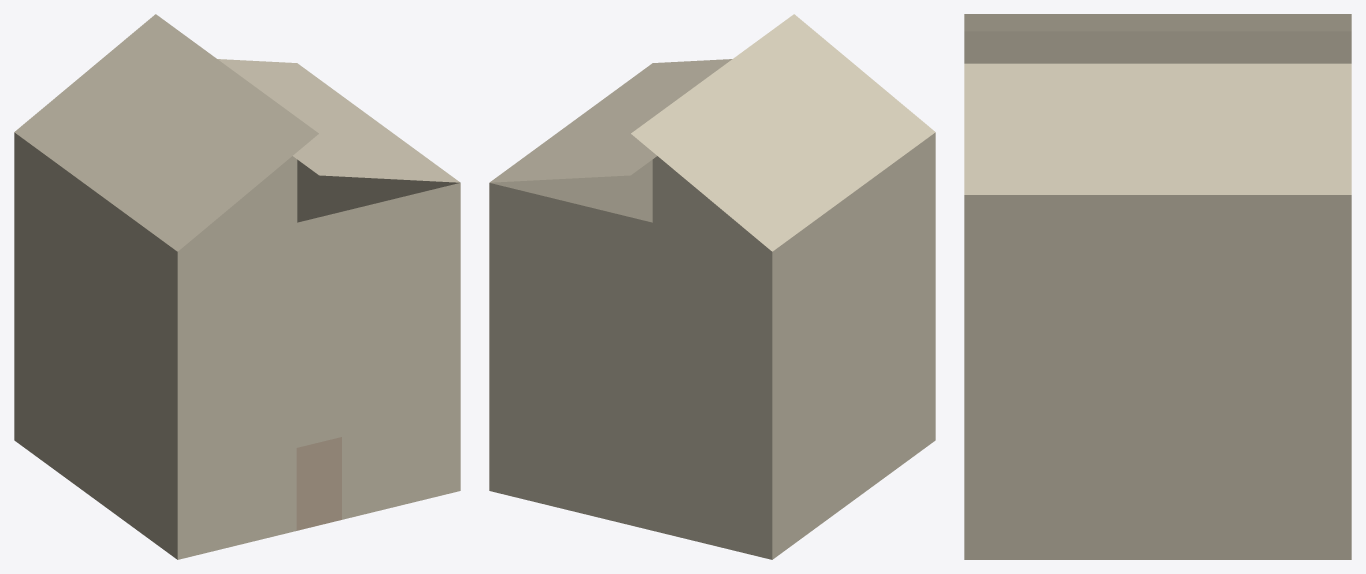
File: box_wall.glb
3 views of the same model, side by side, from view 1: azimuth 30°, elevation 25°; view 2: azimuth 150°, elevation 25°; view 3: azimuth 270°, elevation 25° (orthographic). The views are drawn at different scales.
Visible parts, largest first — view 1: box_wall; view 2: box_wall; view 3: box_wall.
Part boxes in pixels (bbox=[...]): box_wall: bbox=[14, 14, 460, 559]; box_wall: bbox=[489, 14, 935, 559]; box_wall: bbox=[964, 14, 1351, 559].
Bounding box in the file's own units: 32 × 42.32 × 32.
